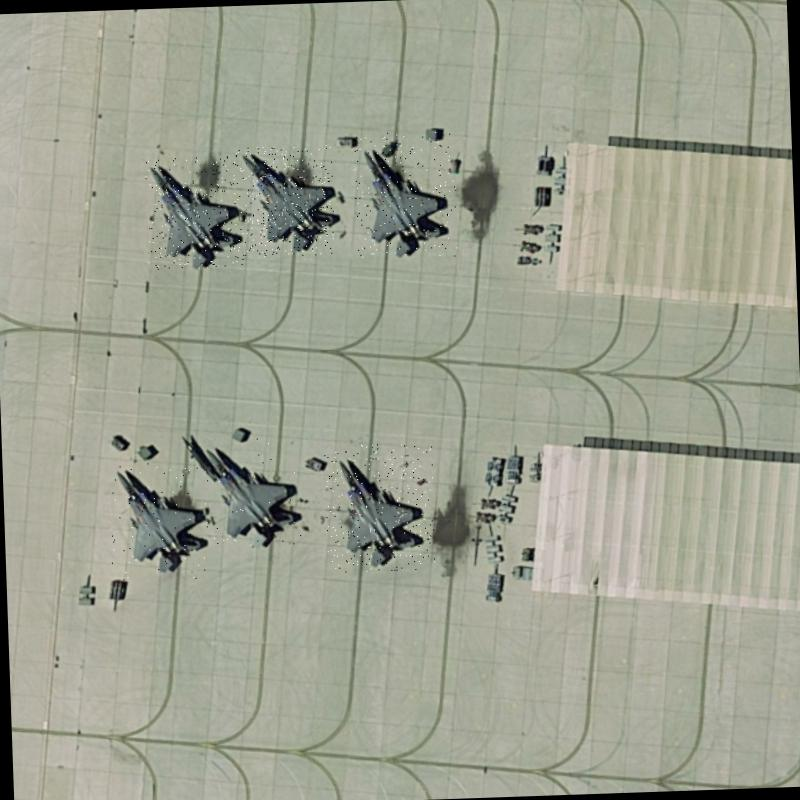A13: (324, 442, 436, 573), (353, 130, 458, 259), (107, 461, 213, 581), (144, 156, 249, 270), (235, 144, 335, 258), (202, 436, 303, 546)
